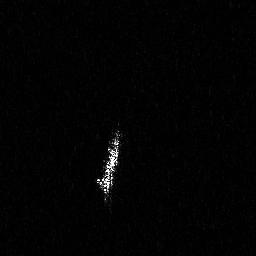ship: (94, 122, 121, 204)
